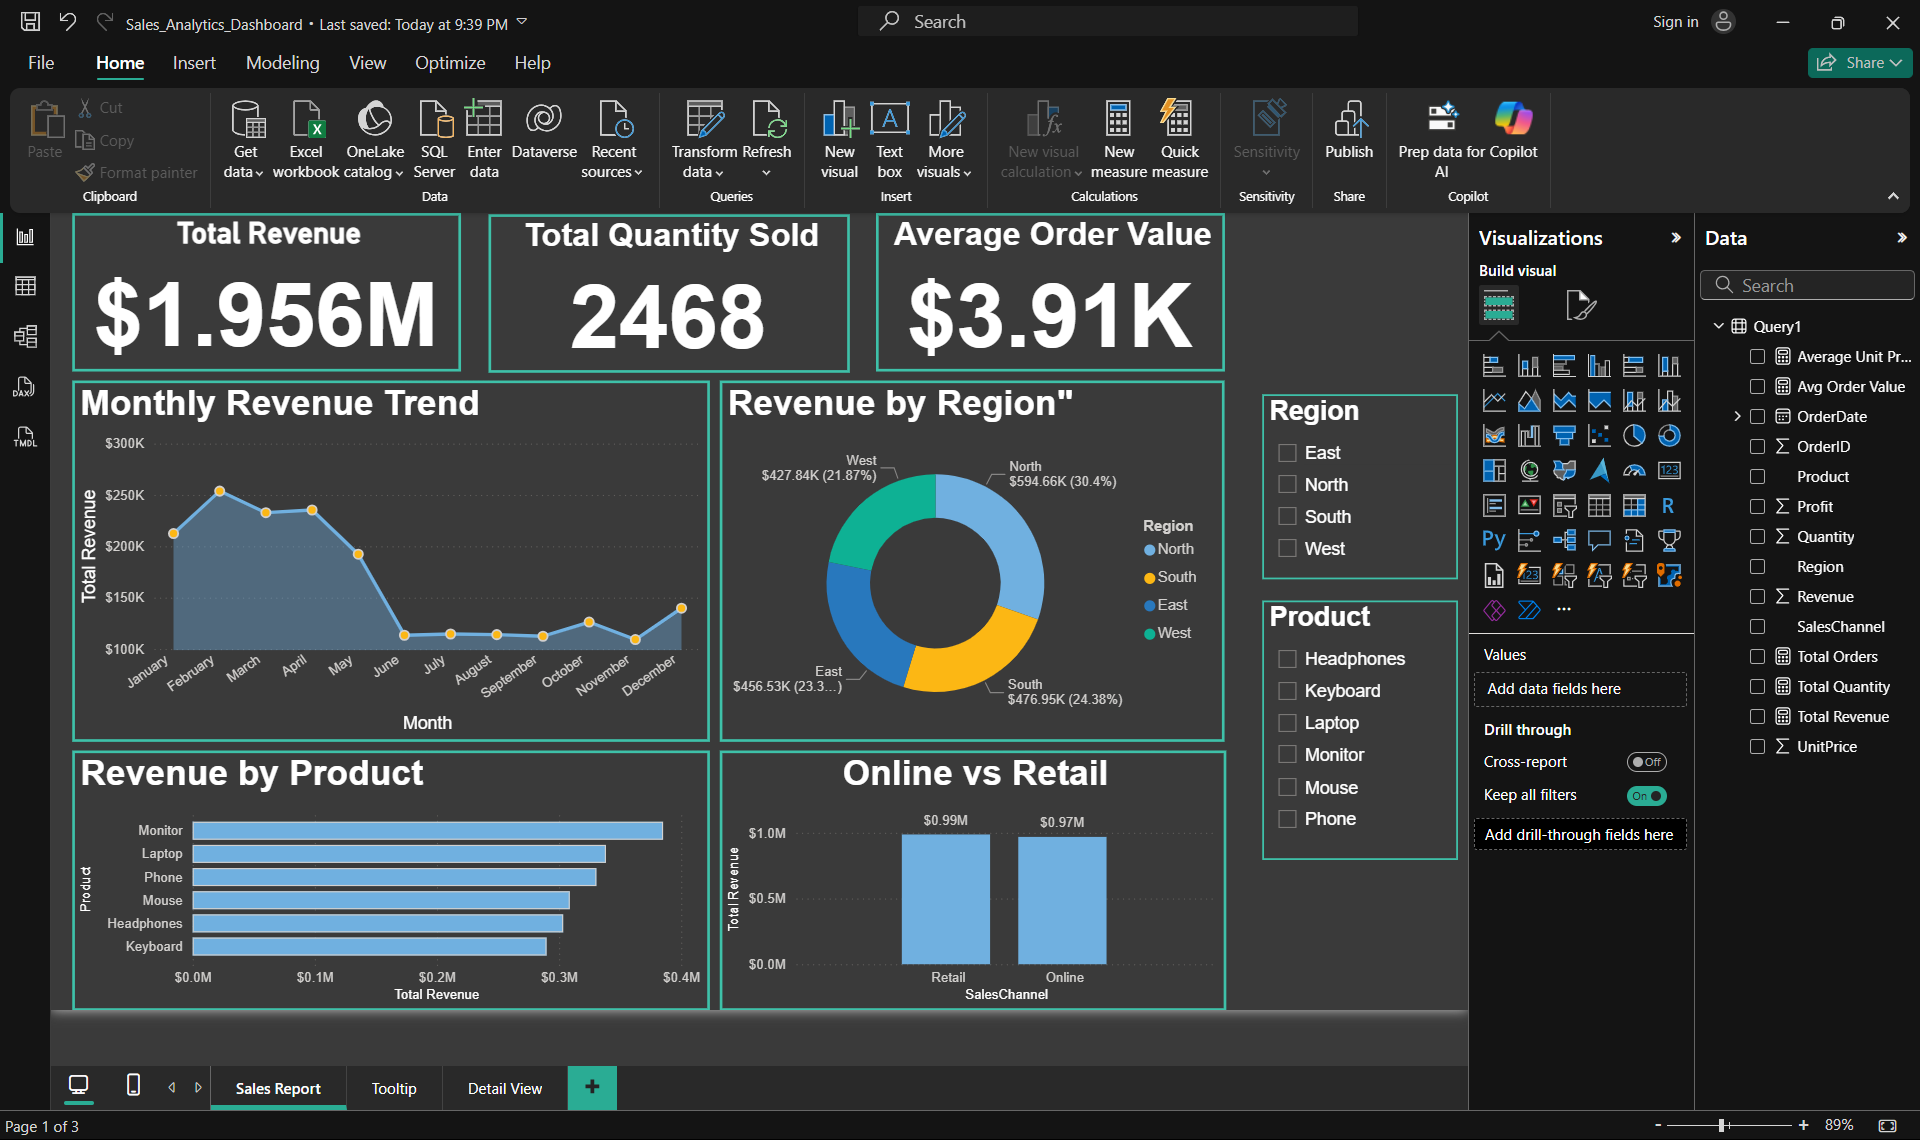

The dashboard page shown, as its layout file describes it:
{"tool":"powerbi","page":{"name":"Sales Report","canvas":[1280,720],"ordinal":0},"visuals":[{"type":"card","title":"Total Revenue","fields":{"Values":["Query1.Total Revenue"]},"box":[19.2,0,351.2,143.4],"z":0},{"type":"card","title":"Total Quantity Sold","fields":{"Values":["Query1.Total Quantity"]},"box":[395.2,1.1,326.3,143.4],"z":1000},{"type":"card","title":"Average Order Value","fields":{"Values":["Query1.Avg Order Value"]},"box":[745.2,0,315,143.4],"z":2000},{"type":"lineChart","title":"Monthly Revenue Trend","fields":{"Category":["Query1.OrderDate.Variation.Date Hierarchy.Month"],"Y":["Query1.Total Revenue"]},"box":[19.2,151.3,575.9,326.3],"z":3000},{"type":"donutChart","title":"Revenue by Region\"","fields":{"Category":["Query1.Region"],"Y":["Query1.Total Revenue"]},"box":[604.1,151.3,456.2,326.3],"z":4000},{"type":"clusteredBarChart","title":"Revenue by Product","fields":{"Category":["Query1.Product"],"Y":["Query1.Total Revenue"]},"box":[19.2,485.5,575.9,234.9],"z":5000},{"type":"clusteredColumnChart","title":"Online vs Retail","fields":{"Category":["Query1.SalesChannel"],"Y":["Query1.Total Revenue"]},"box":[604.1,485.5,457.3,234.9],"z":6000},{"type":"slicer","title":"Product","fields":{"Values":["Query1.Product"]},"box":[1093.7,349.9,177,234.6],"z":7000},{"type":"slicer","title":"Region","fields":{"Values":["Query1.Region"]},"box":[1093.7,163.3,177,167.4],"z":8000}]}

Visuals, with their boxes on the page's 1280x720 design canvas (x1, y1, x2, y2). These are canvas units, not pixel positions in the 1920x1140 screenshot, which may show the page scaled, cropped or inside an application window:
"Total Revenue" card: (19, 0, 370, 143)
"Total Quantity Sold" card: (395, 1, 722, 144)
"Average Order Value" card: (745, 0, 1060, 143)
"Monthly Revenue Trend" lineChart: (19, 151, 595, 478)
"Revenue by Region"" donutChart: (604, 151, 1060, 478)
"Revenue by Product" clusteredBarChart: (19, 486, 595, 720)
"Online vs Retail" clusteredColumnChart: (604, 486, 1061, 720)
"Product" slicer: (1094, 350, 1271, 584)
"Region" slicer: (1094, 163, 1271, 331)
